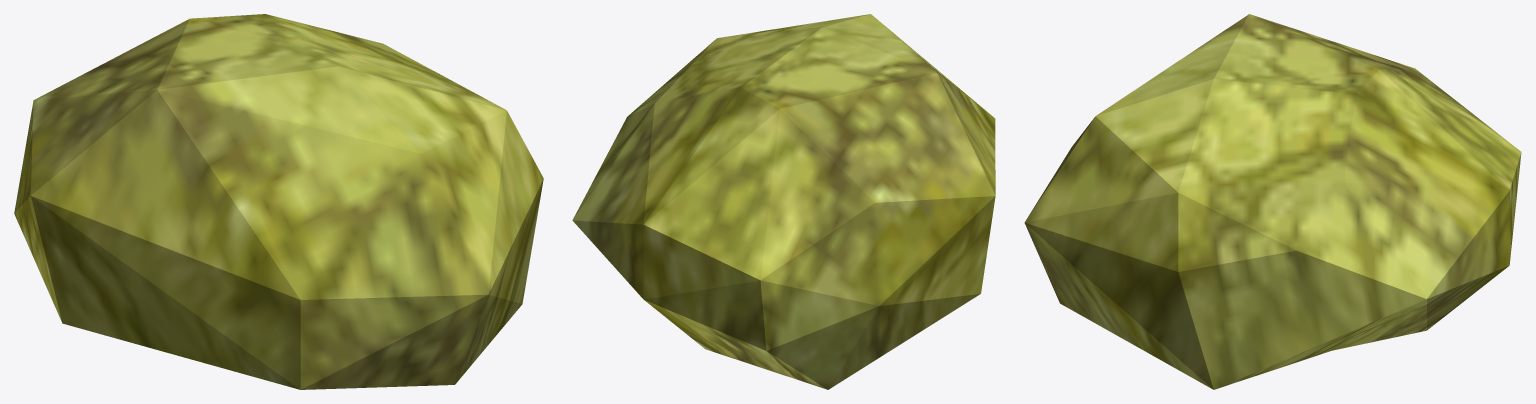
Rendered from C4SNYELLOWROCK.obj.
3 renders of one model, left to right at view 1: azimuth 30°, elevation 25°; view 2: azimuth 150°, elevation 25°; view 3: azimuth 270°, elevation 25°, orthographic. The views are drawn at different scales.
Parts seen in each view (by area): view 1: Node 0; view 2: Node 0; view 3: Node 0.
Part boxes in pixels (left/top/right/bottom): Node 0: left=14, top=14, right=543, bottom=389; Node 0: left=572, top=14, right=995, bottom=389; Node 0: left=1024, top=14, right=1521, bottom=389.
Bounding box in the file's own units: 0.36 × 0.24 × 0.42.
Materials: 1 (1 with a texture image).
